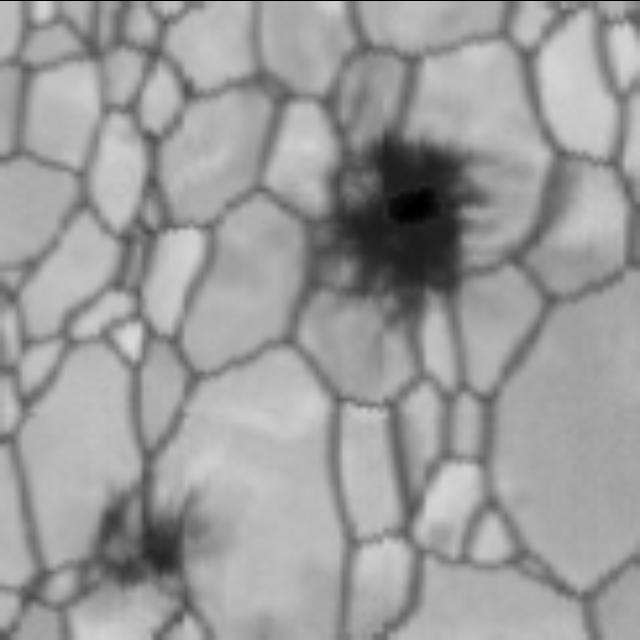good_void: (273, 86, 517, 342), (77, 477, 232, 612)
